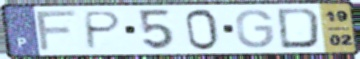0: (183, 7, 221, 51)
5: (136, 7, 178, 52)
D: (275, 6, 323, 50)
F: (33, 8, 80, 53)
G: (234, 7, 276, 50)
P: (84, 10, 125, 51)
